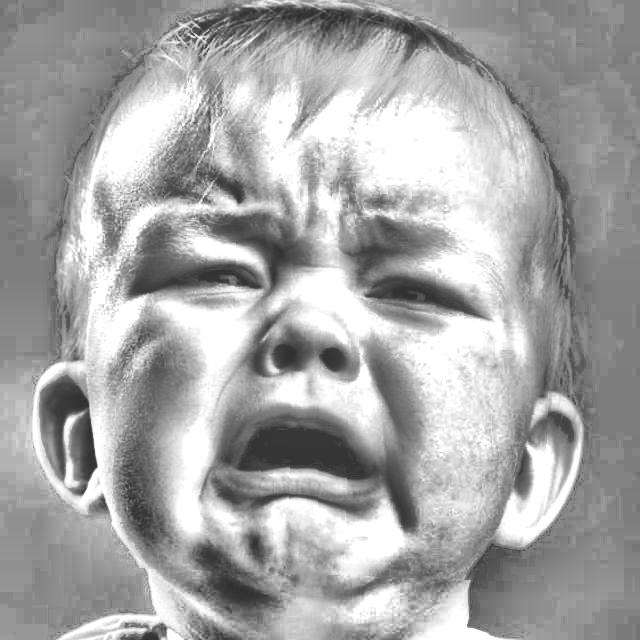sad: (115, 71, 555, 578)
